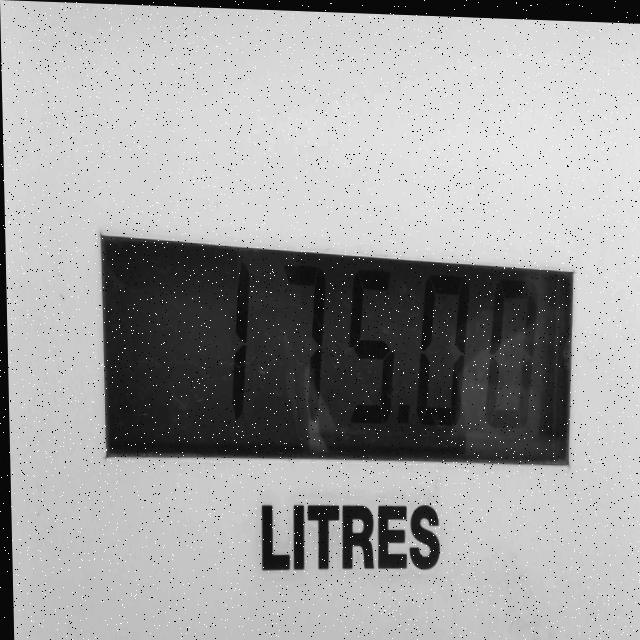.: (398, 398, 409, 427)
0: (482, 266, 537, 420), (414, 269, 467, 419)
1: (226, 258, 249, 434)
5: (348, 263, 394, 414)
7: (279, 260, 325, 423)
